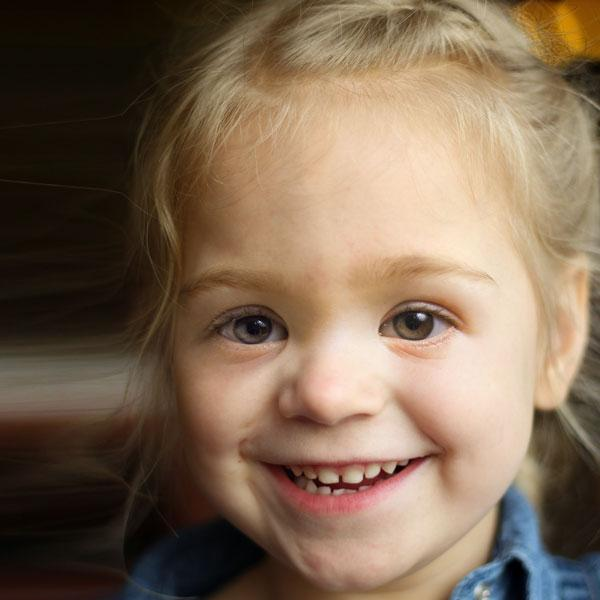Eyes: (193, 295, 302, 358), (366, 292, 474, 352)
